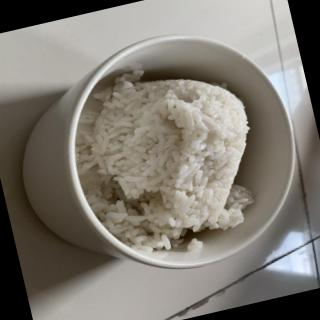Nasi: (60, 55, 276, 276)
